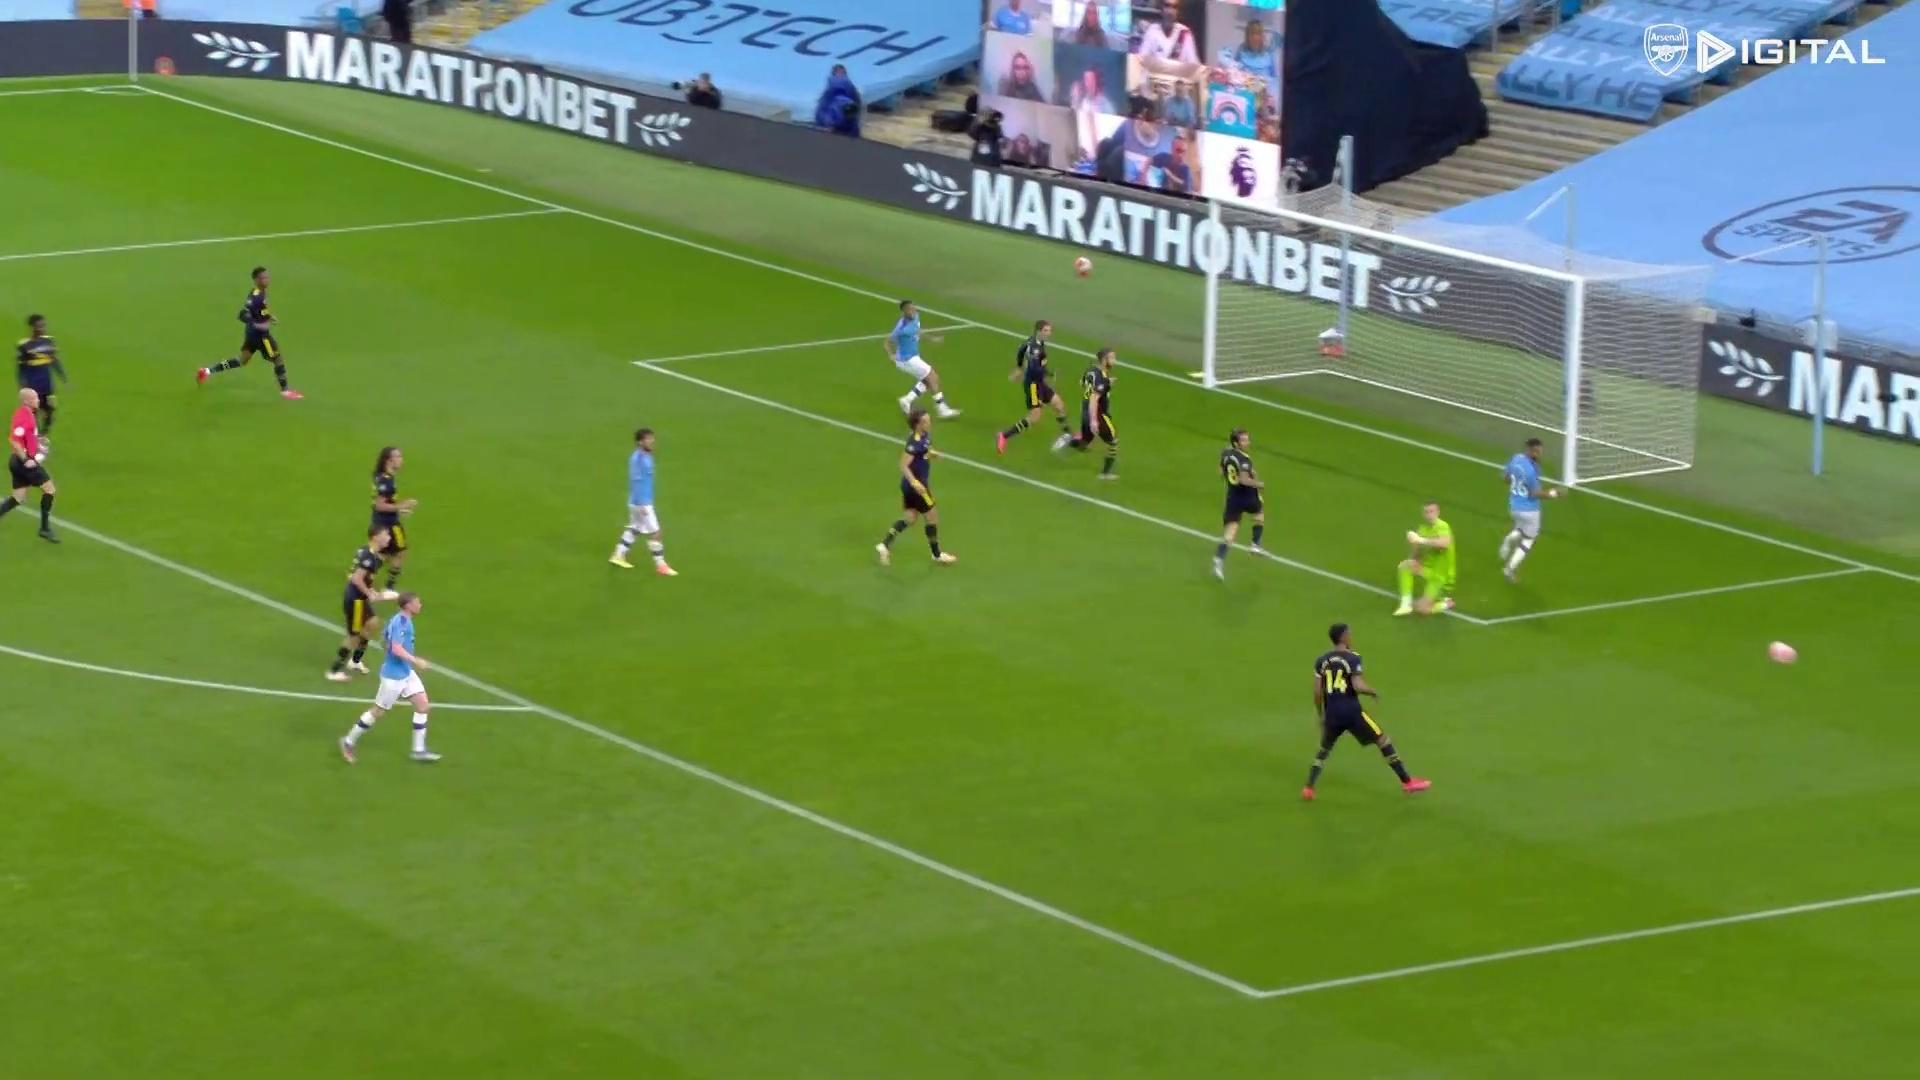ball: (1767, 639, 1800, 670), (1074, 254, 1094, 279)
goalkeeper: (1390, 499, 1461, 621)
player: (1300, 619, 1433, 806), (340, 588, 448, 766), (193, 261, 307, 406), (869, 407, 961, 576), (340, 443, 421, 604), (605, 423, 684, 581), (999, 317, 1084, 459), (1047, 343, 1127, 485), (1209, 421, 1278, 585), (329, 520, 395, 687), (881, 296, 963, 429), (1491, 432, 1560, 585), (6, 309, 72, 461)
referee: (0, 384, 70, 555)
